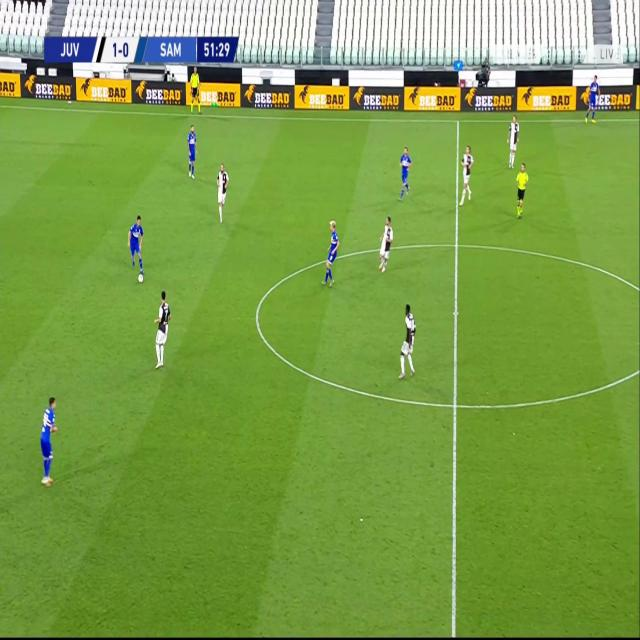ball: (137, 270, 144, 282)
player: (37, 393, 59, 485), (396, 301, 418, 381), (152, 287, 171, 368), (322, 218, 341, 288), (127, 213, 145, 272), (378, 213, 394, 274), (459, 143, 474, 205), (584, 74, 601, 125), (398, 144, 414, 198), (215, 161, 229, 222), (514, 160, 528, 218), (506, 112, 520, 168), (188, 65, 202, 113), (186, 123, 198, 177)
